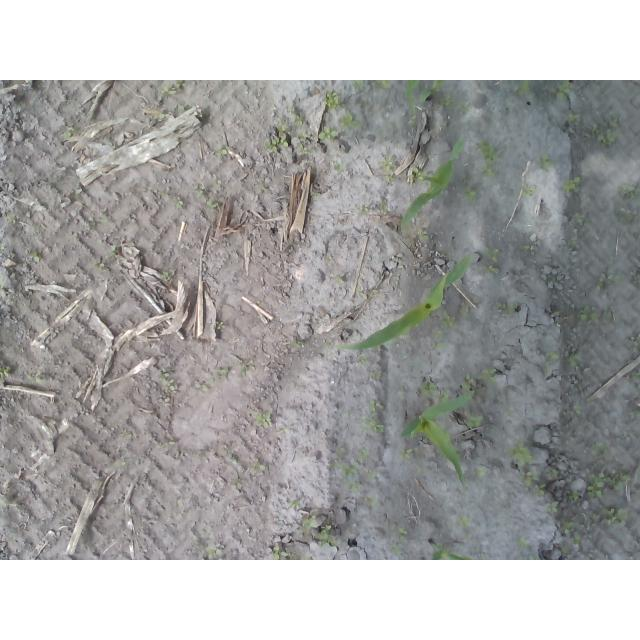Maize: (337, 253, 472, 352), (398, 390, 474, 489), (405, 134, 468, 227), (406, 80, 443, 106), (428, 537, 468, 560)
Weeds: (269, 116, 316, 152), (591, 113, 621, 147), (587, 474, 624, 498), (360, 402, 384, 434), (478, 143, 498, 177), (507, 440, 534, 465), (601, 507, 636, 526), (561, 521, 584, 548), (438, 95, 470, 114), (382, 154, 399, 183), (392, 527, 409, 555), (159, 369, 178, 392), (160, 80, 185, 96), (486, 246, 500, 274), (431, 329, 448, 352), (579, 304, 600, 321), (601, 273, 624, 288), (560, 176, 580, 193), (340, 114, 360, 129), (324, 92, 341, 109), (316, 127, 336, 141), (443, 311, 457, 330), (421, 379, 437, 395), (255, 411, 272, 426), (464, 374, 479, 391), (558, 81, 571, 100), (497, 302, 516, 315), (319, 529, 335, 544), (480, 369, 497, 383), (29, 372, 47, 385), (205, 545, 222, 558), (371, 80, 393, 90), (539, 155, 553, 170), (523, 184, 537, 198), (464, 187, 478, 201), (410, 167, 423, 182), (469, 414, 484, 427), (567, 351, 579, 367), (546, 350, 562, 362), (630, 333, 640, 352), (64, 127, 81, 138), (520, 470, 533, 484), (518, 80, 531, 94), (533, 482, 548, 494), (340, 466, 356, 477), (546, 500, 559, 513), (517, 536, 530, 549), (358, 449, 370, 463), (399, 448, 413, 460), (216, 146, 229, 158), (456, 515, 468, 528), (544, 467, 558, 478), (273, 544, 282, 561), (238, 364, 249, 377), (477, 466, 488, 479), (568, 493, 581, 504), (348, 481, 360, 492), (568, 112, 579, 124), (566, 238, 579, 248), (0, 366, 10, 379), (573, 214, 586, 224), (350, 80, 364, 89), (303, 517, 314, 528), (366, 495, 378, 505), (520, 243, 531, 253), (229, 455, 239, 466), (359, 203, 369, 214), (207, 199, 218, 209), (216, 368, 228, 377), (295, 340, 306, 349), (165, 271, 174, 281), (368, 472, 377, 481), (33, 255, 42, 263), (175, 200, 183, 208)
